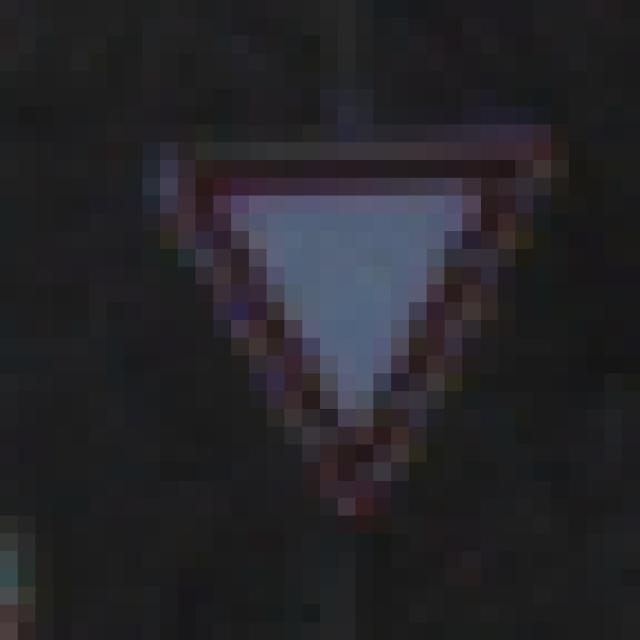Give Way: (108, 90, 552, 552)
